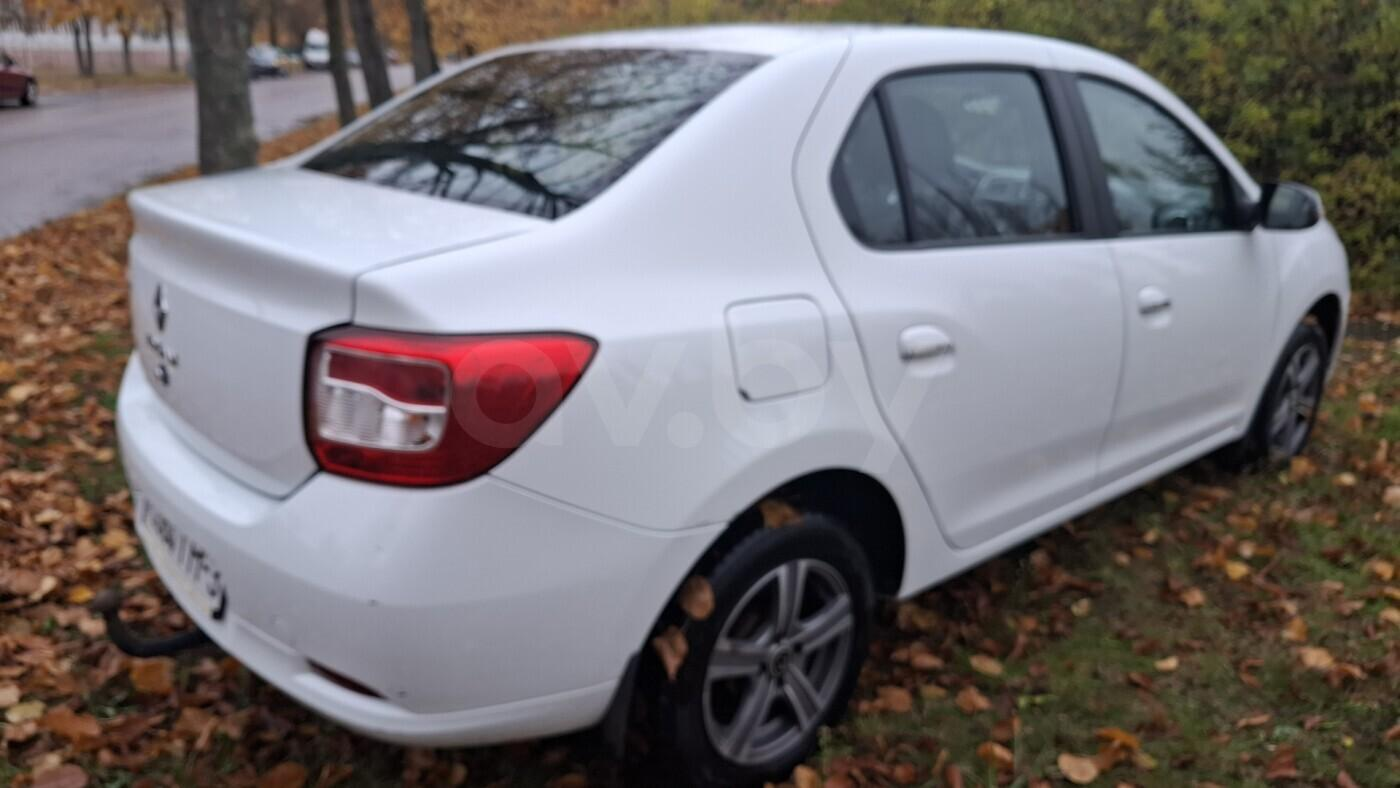Logan_2013-2018: (96, 19, 1348, 779)
